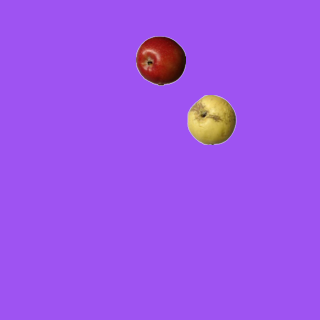Apple Braeburn: (135, 35, 185, 85)
Apple Golden 1: (186, 94, 236, 144)
